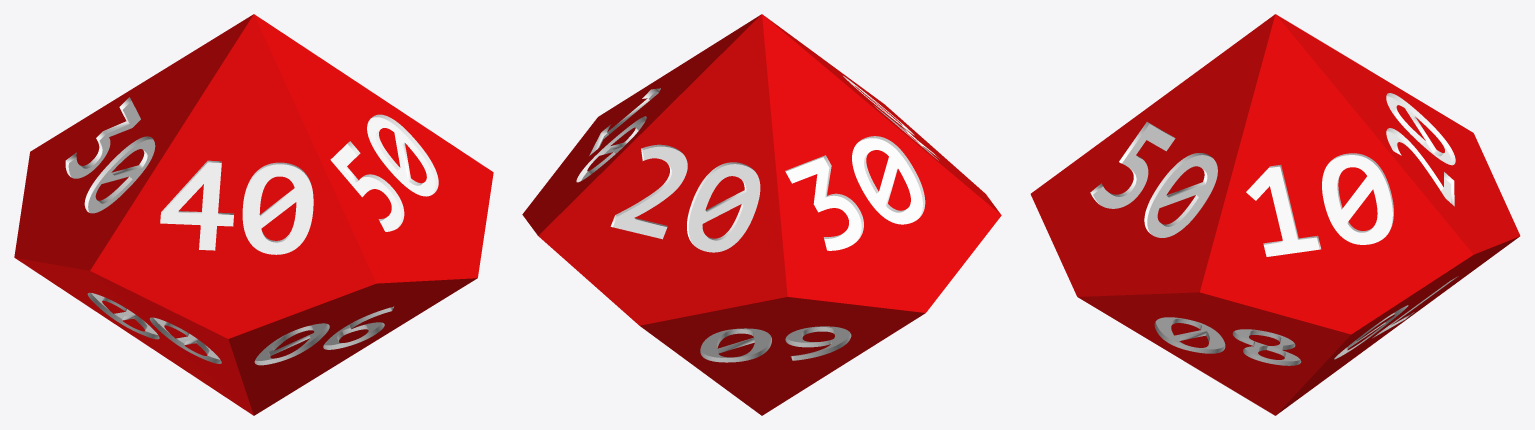
The picture shows the model from 3 angles, left to right: view 1: azimuth 30°, elevation 25°; view 2: azimuth 150°, elevation 25°; view 3: azimuth 270°, elevation 25°; orthographic projection.
Parts seen in each view (by area): view 1: d10.001; view 2: d10.001; view 3: d10.001.
Boxes of the visible parts, <box> form: d10.001: <box>14,14,493,415</box>; d10.001: <box>522,14,1001,415</box>; d10.001: <box>1030,14,1520,415</box>.
Size of the model in its own units: 1.9 by 1.81 by 2.
